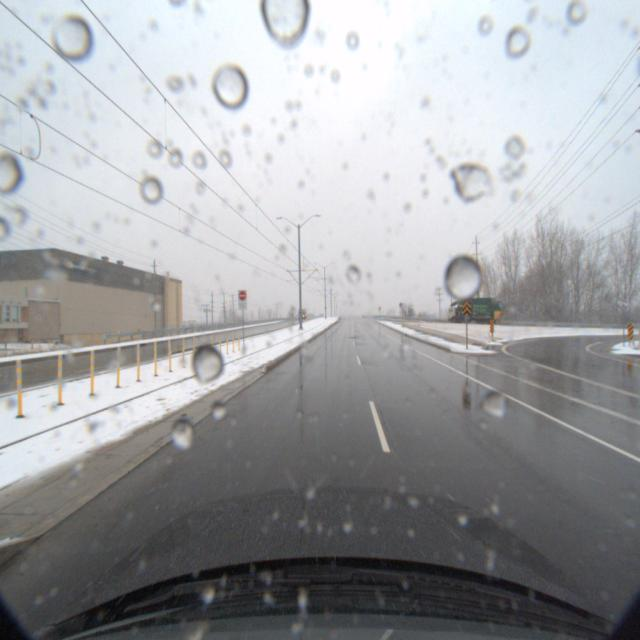Truck: (444, 296, 504, 323)
